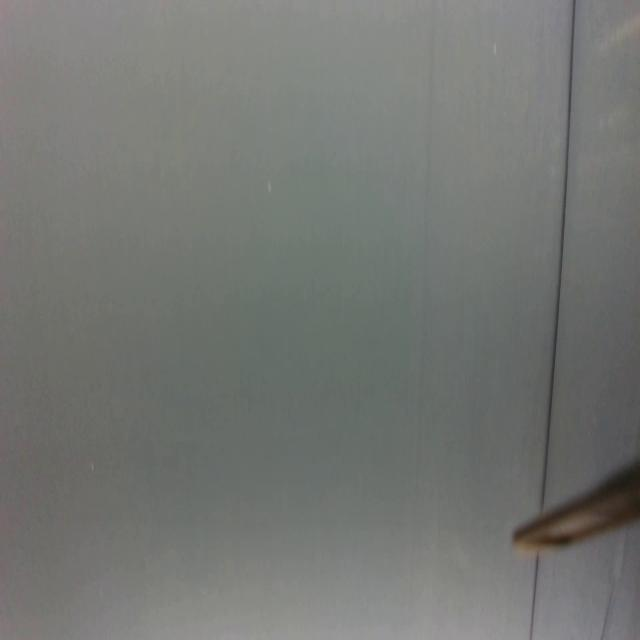crease: (543, 0, 577, 500), (529, 553, 541, 640), (601, 578, 616, 638)
hole: (268, 180, 274, 198), (493, 41, 498, 58), (89, 461, 96, 473)
